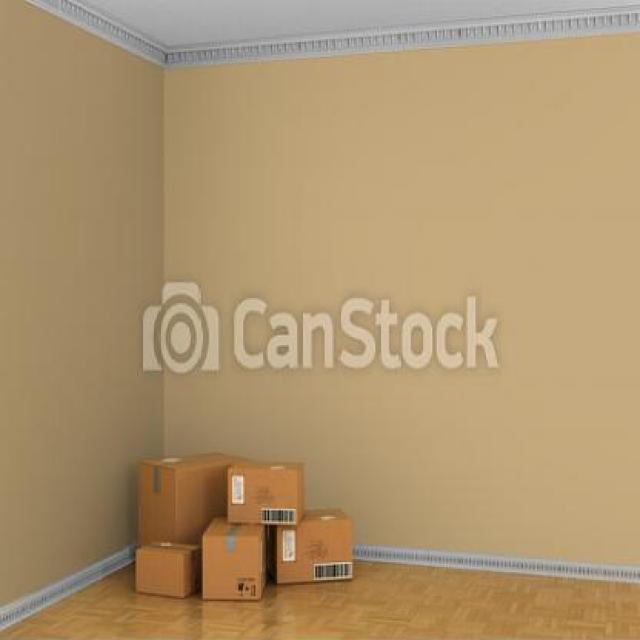box: (129, 442, 233, 579), (186, 516, 279, 626), (214, 453, 311, 543), (126, 522, 208, 628), (270, 510, 364, 592)
